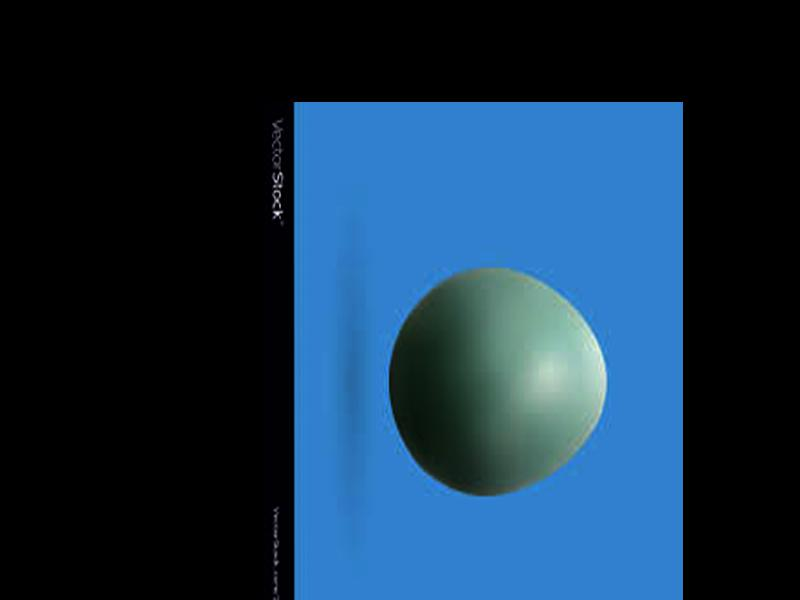Eggs: (390, 268, 607, 499)
